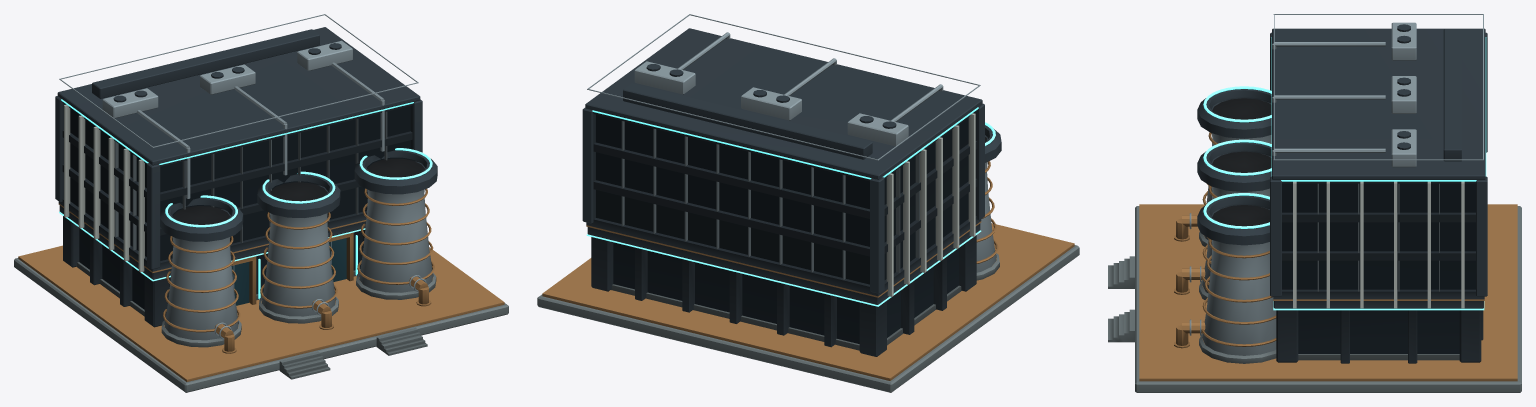
File: compute-foundry.lod1.glb
The picture shows the model from 3 angles, left to right: view 1: azimuth 30°, elevation 25°; view 2: azimuth 150°, elevation 25°; view 3: azimuth 270°, elevation 25°; orthographic projection. The views are drawn at different scales.
Visible parts, largest first — view 1: structure, lobby; view 2: structure, lobby; view 3: structure, lobby.
Boxes of the visible parts, x1,y1,x2,y2 form: structure: [14, 14, 508, 392]; lobby: [79, 228, 363, 309]; structure: [537, 14, 1079, 392]; lobby: [613, 242, 958, 343]; structure: [1108, 14, 1521, 392]; lobby: [1298, 310, 1459, 353].
Bounding box in the file's own units: 25 × 14.34 × 24.6.
